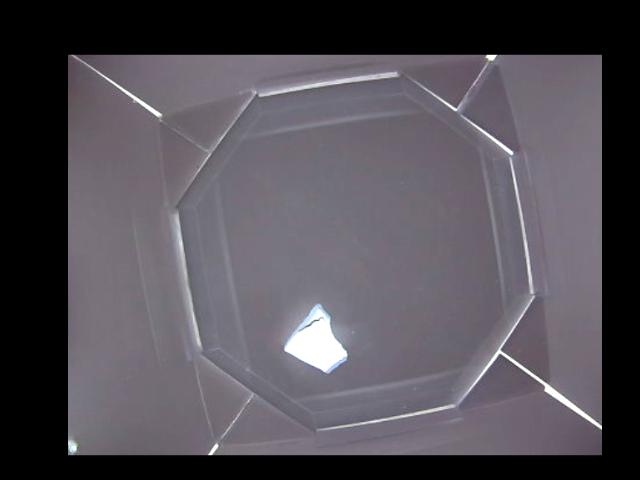China: (282, 303, 350, 376)
